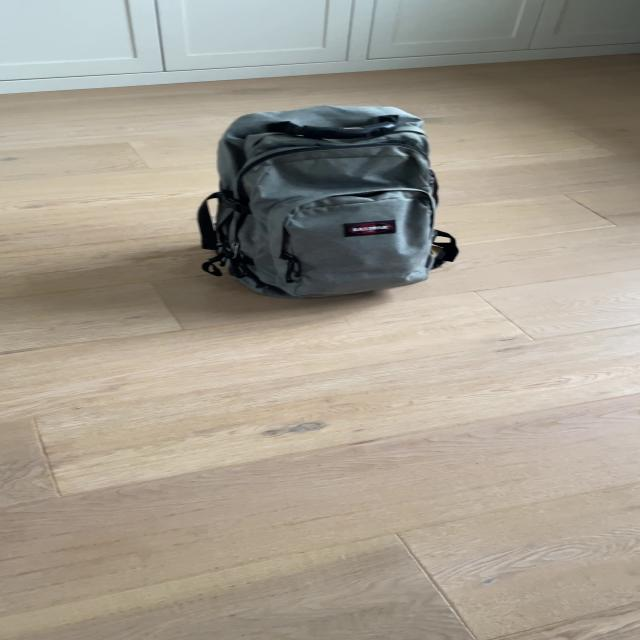backpack: (189, 95, 461, 305)
